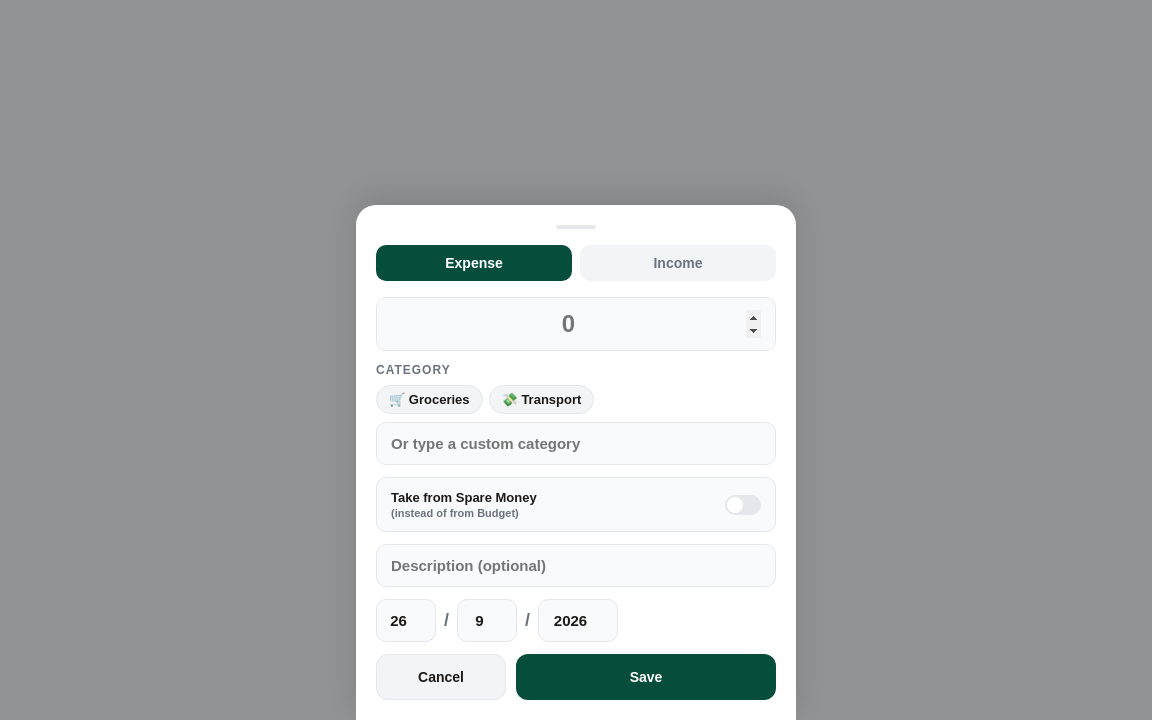
AddTransactionSheet › hides category chips when type is income
The image size is (1152, 720).
What coordinates should you click on to do the following:
click the button "Income"
I would click on:
 (678, 263)
Its box is [580,245,776,281].
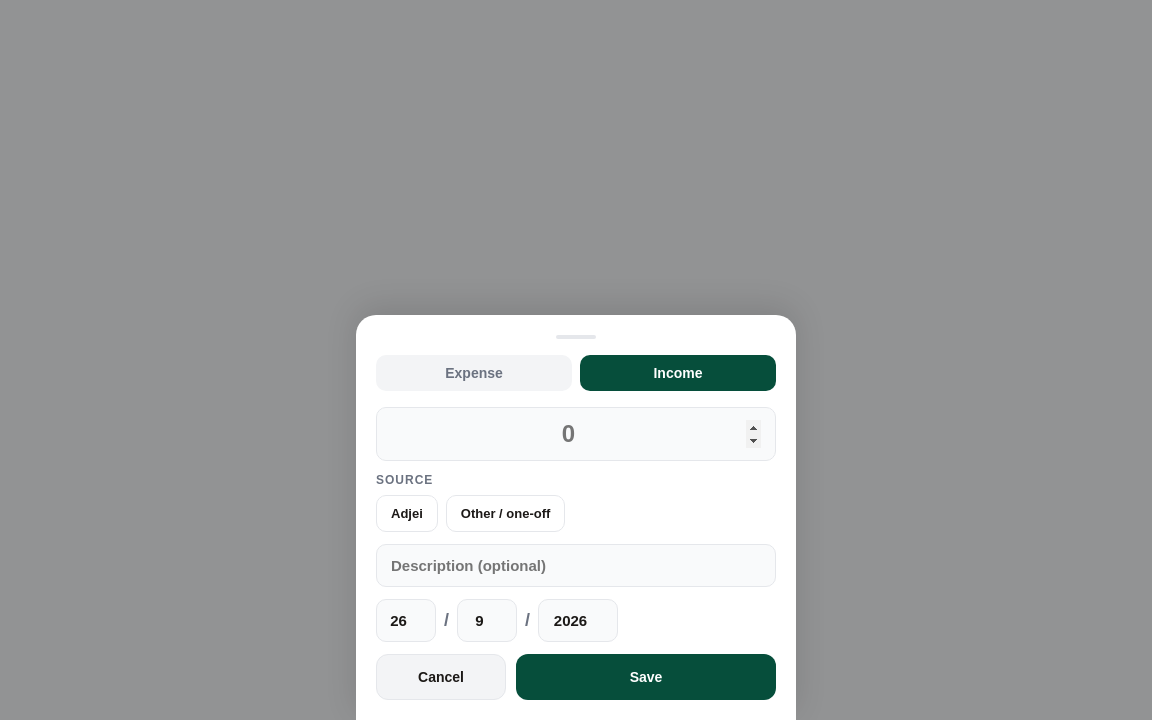
Now the button "Groceries" is gone
